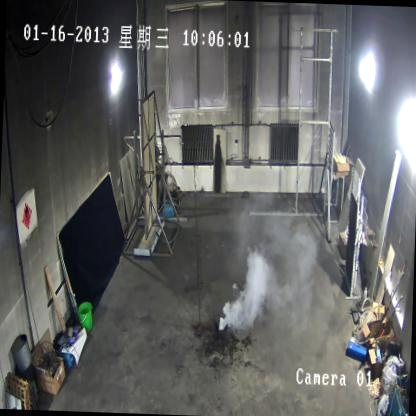smoke: (201, 229, 281, 335)
